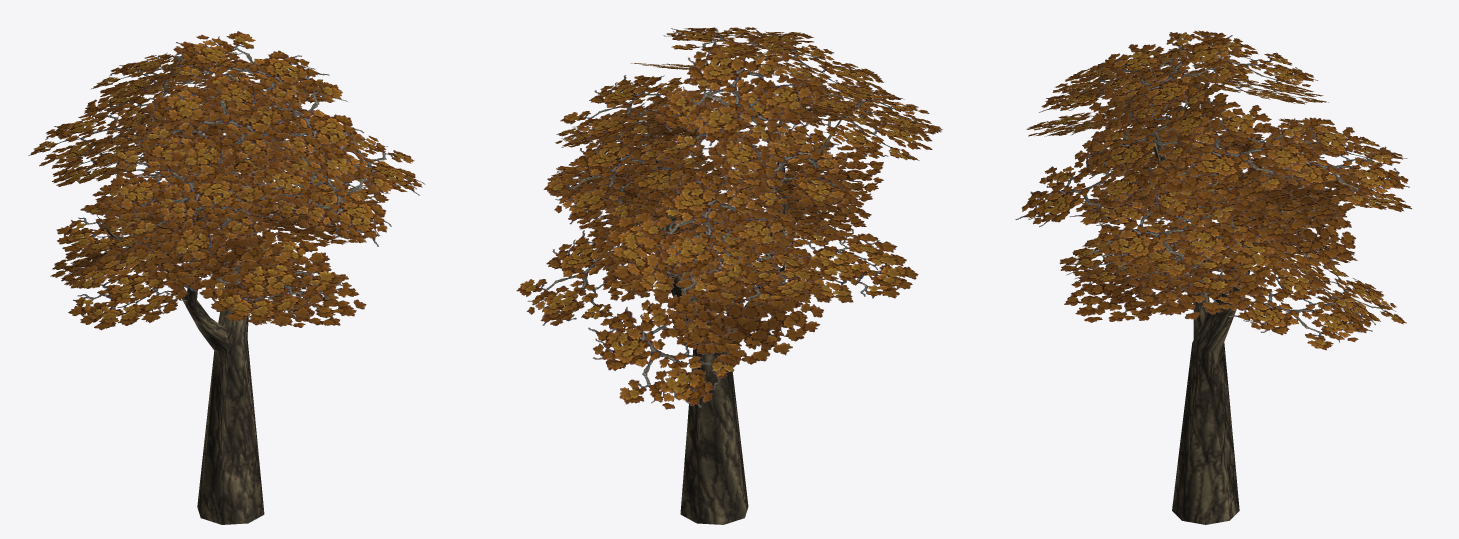
File: Scene_Tree_06.FBX
3 views of the same model, side by side, from view 1: azimuth 30°, elevation 25°; view 2: azimuth 150°, elevation 25°; view 3: azimuth 270°, elevation 25° (orthographic). The views are drawn at different scales.
Parts seen in each view (by area): view 1: Scene_Tree_06; view 2: Scene_Tree_06; view 3: Scene_Tree_06.
Part boxes in pixels (box(x1,y1,x2,y2)): Scene_Tree_06: box(28, 31, 425, 524); Scene_Tree_06: box(516, 27, 942, 524); Scene_Tree_06: box(1015, 30, 1411, 524).
Bounding box in the file's own units: 4.6 × 5.15 × 4.61.
